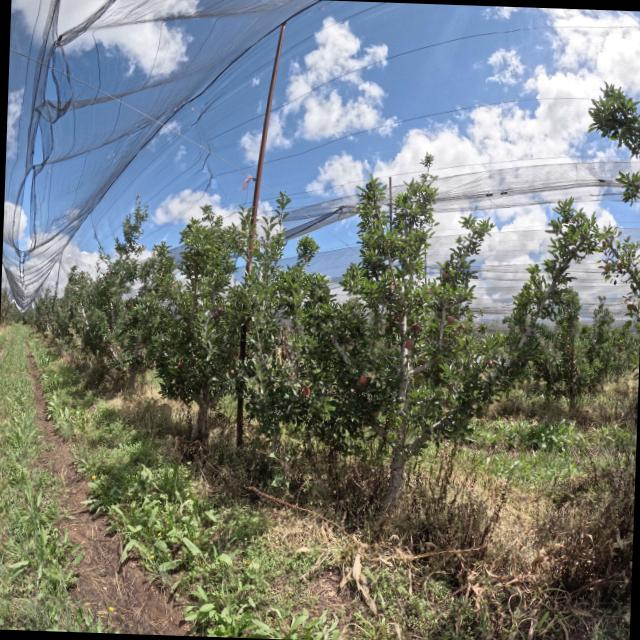-FireBlight-: (269, 326, 299, 379), (299, 383, 311, 401)
